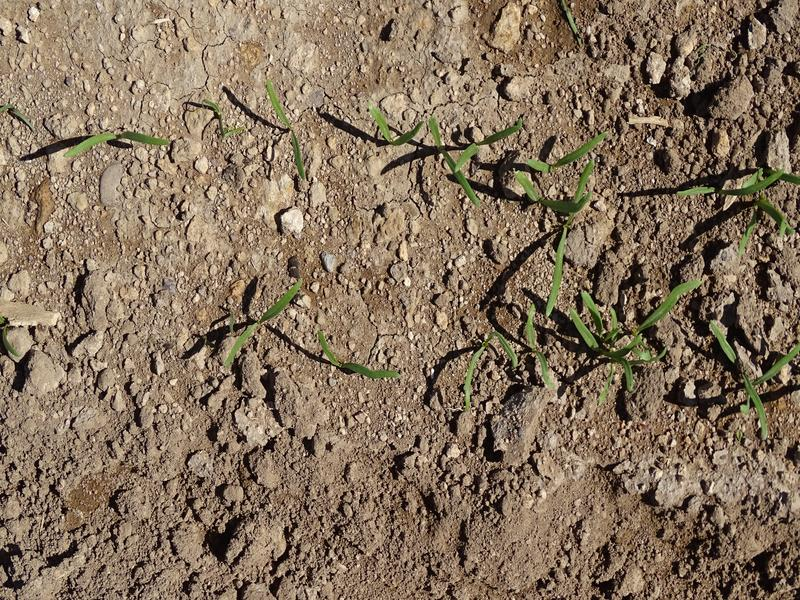Espinaca: (412, 120, 598, 217), (576, 278, 693, 382), (705, 322, 795, 435), (684, 165, 798, 247), (459, 319, 553, 412), (217, 278, 311, 363), (264, 77, 312, 185), (317, 328, 402, 385), (57, 128, 181, 158), (372, 105, 423, 157)
